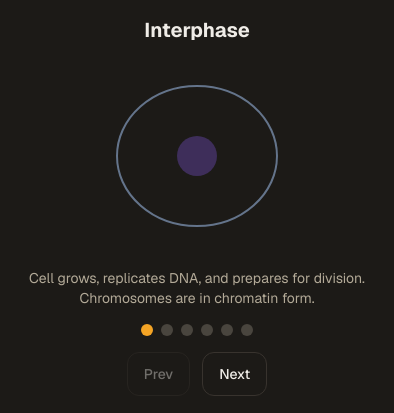
Scenario: MitosisSteps › navigates to next step when Next is clicked
Click the button "Next" at x=235, y=374, box [202,352,267,396]
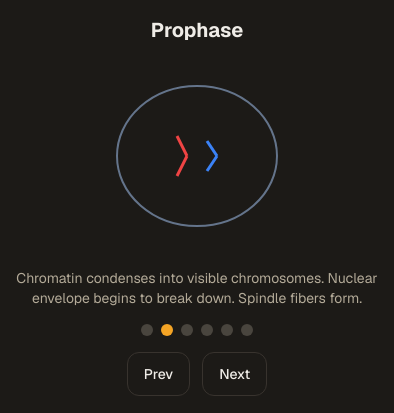
Check: the heading "Prophase" is shown, box [151,16,243,44]
